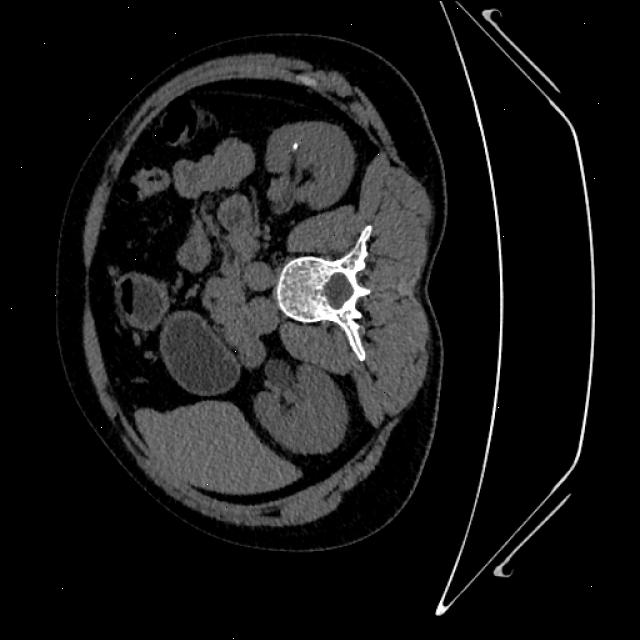kidneystone: (292, 142, 298, 150)
